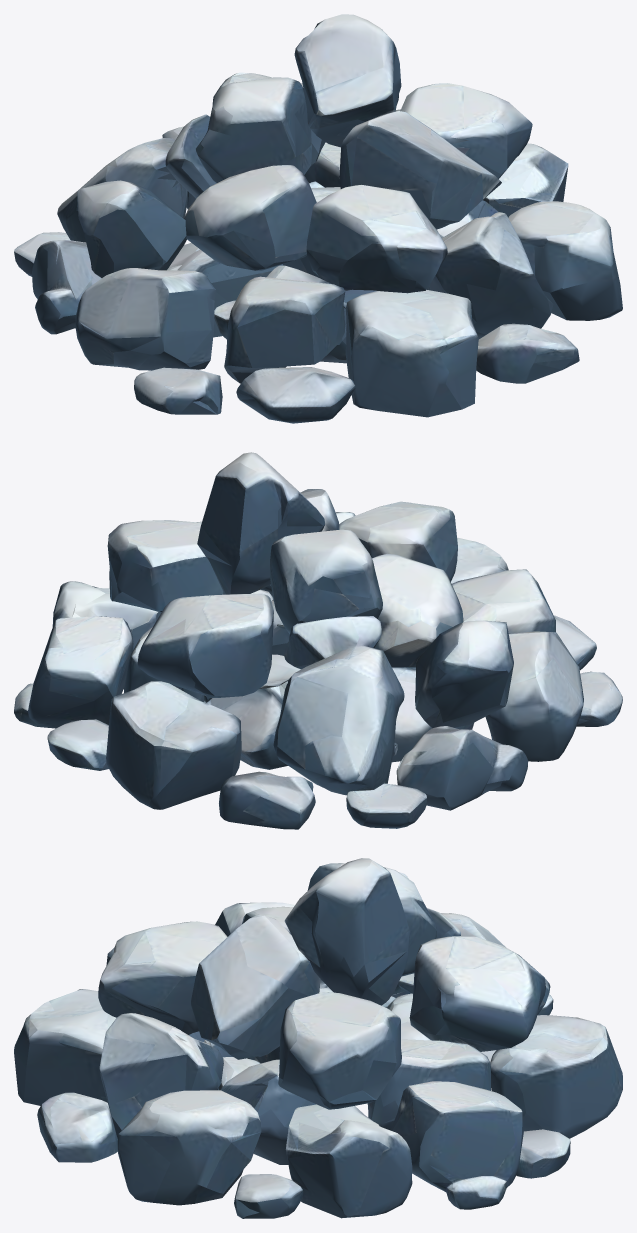
Rendered from stone_deposit.glb.
3 renders of one model, top to bottom at view 1: azimuth 30°, elevation 25°; view 2: azimuth 150°, elevation 25°; view 3: azimuth 270°, elevation 25°, orthographic. The views are drawn at different scales.
Size of the model in its own units: 1.84 by 0.8881 by 1.9.
1 material, 1 textured.
